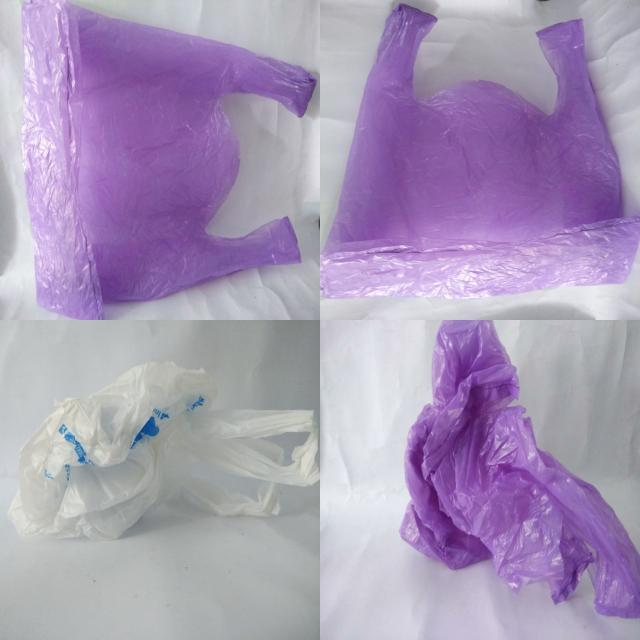Single-layer Plastic: (321, 4, 640, 298), (22, 0, 316, 318), (400, 320, 640, 618), (10, 362, 319, 539)
